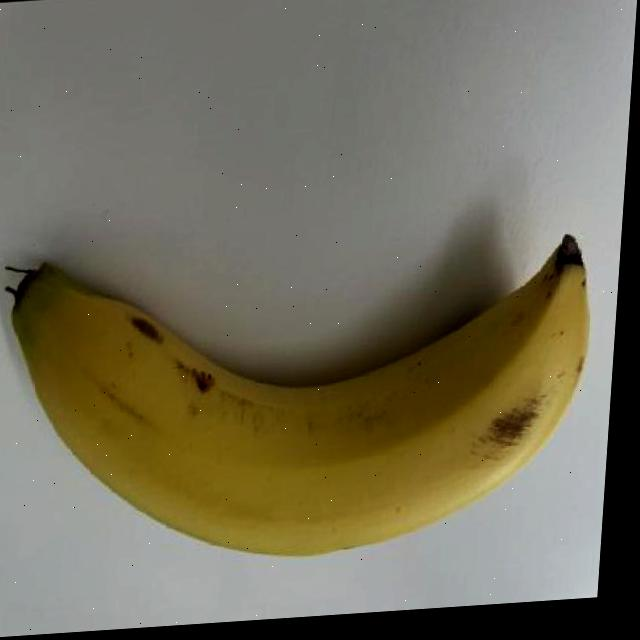banana: (0, 205, 603, 585)
